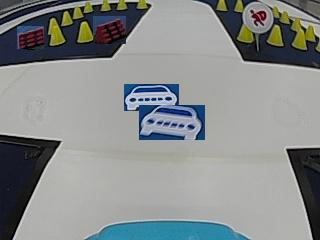thief: (241, 1, 273, 32)
